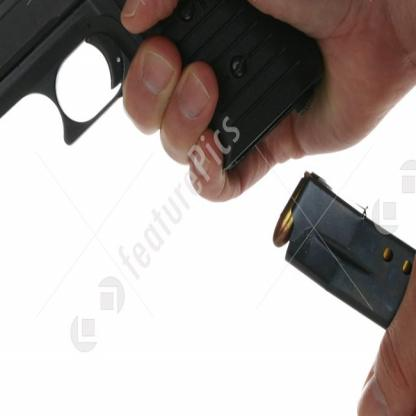gun: (0, 0, 335, 238)
